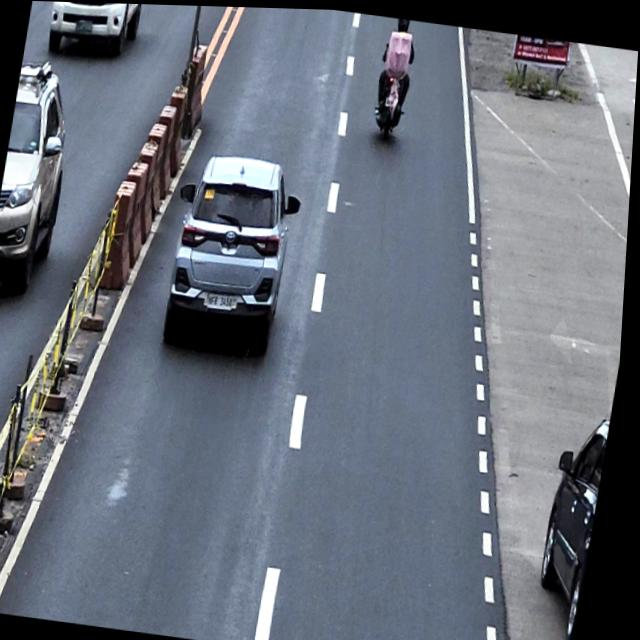Car: (156, 149, 310, 367), (529, 408, 615, 640), (0, 57, 83, 297), (43, 1, 148, 62)
License-Plate: (209, 287, 238, 311), (73, 18, 95, 36), (385, 95, 400, 108)
Motorcycle: (371, 34, 417, 138)
